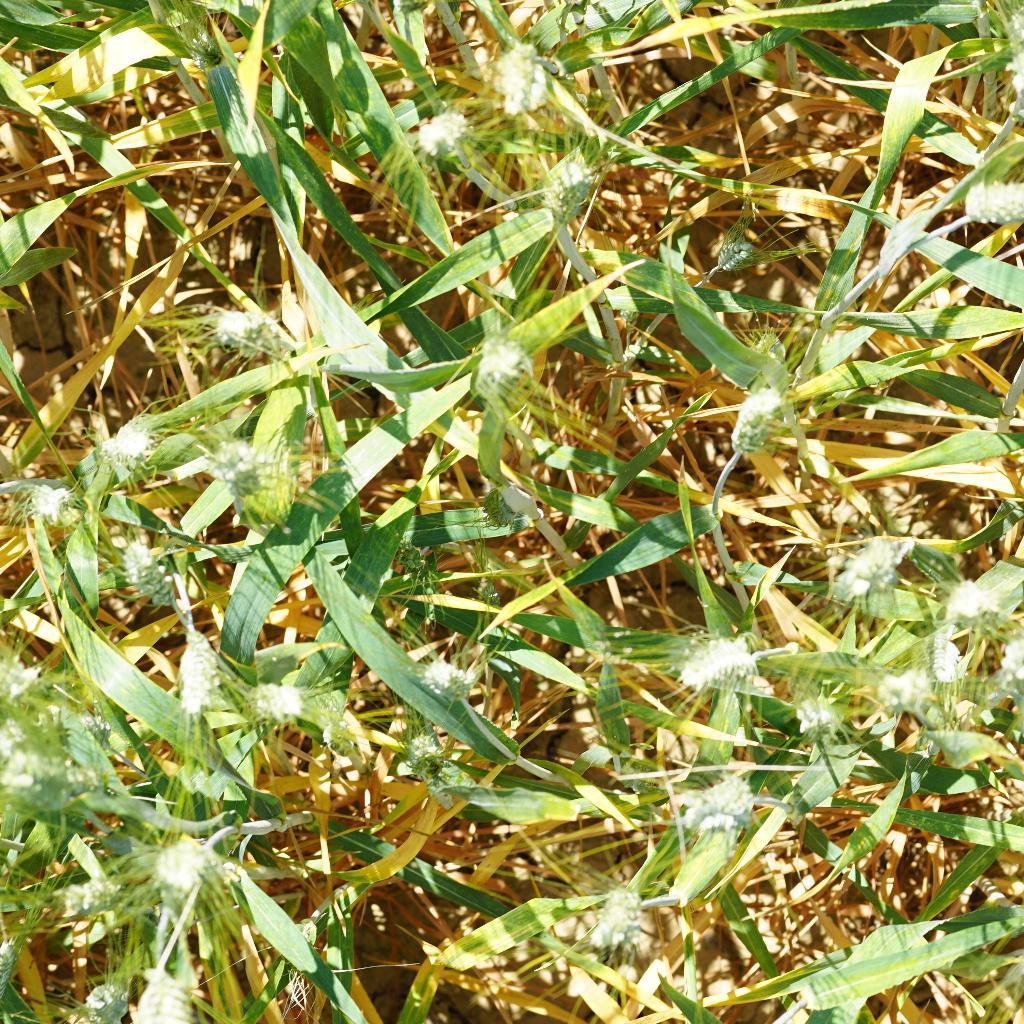0-0: (654, 613, 776, 699), (98, 526, 182, 616), (0, 753, 103, 826), (482, 27, 559, 120), (157, 615, 225, 718), (86, 406, 174, 485), (676, 757, 761, 836), (193, 291, 284, 362), (826, 529, 911, 605), (854, 651, 935, 727), (722, 381, 793, 464), (0, 652, 70, 736), (449, 343, 542, 406), (204, 421, 271, 504), (576, 874, 650, 946), (12, 467, 81, 542), (134, 960, 205, 1024), (389, 544, 462, 606), (957, 167, 1024, 232), (414, 645, 484, 707), (545, 163, 609, 228), (52, 870, 141, 916), (152, 833, 217, 892), (393, 721, 458, 780), (313, 698, 372, 763), (727, 324, 793, 382), (935, 568, 1004, 623), (239, 672, 302, 732), (174, 13, 233, 74), (615, 239, 649, 344), (478, 481, 544, 535), (418, 104, 474, 165), (784, 688, 838, 747), (81, 972, 142, 1024), (600, 751, 666, 798), (914, 631, 972, 681), (983, 626, 1024, 695), (710, 225, 766, 275), (282, 911, 322, 979), (471, 557, 503, 617)
